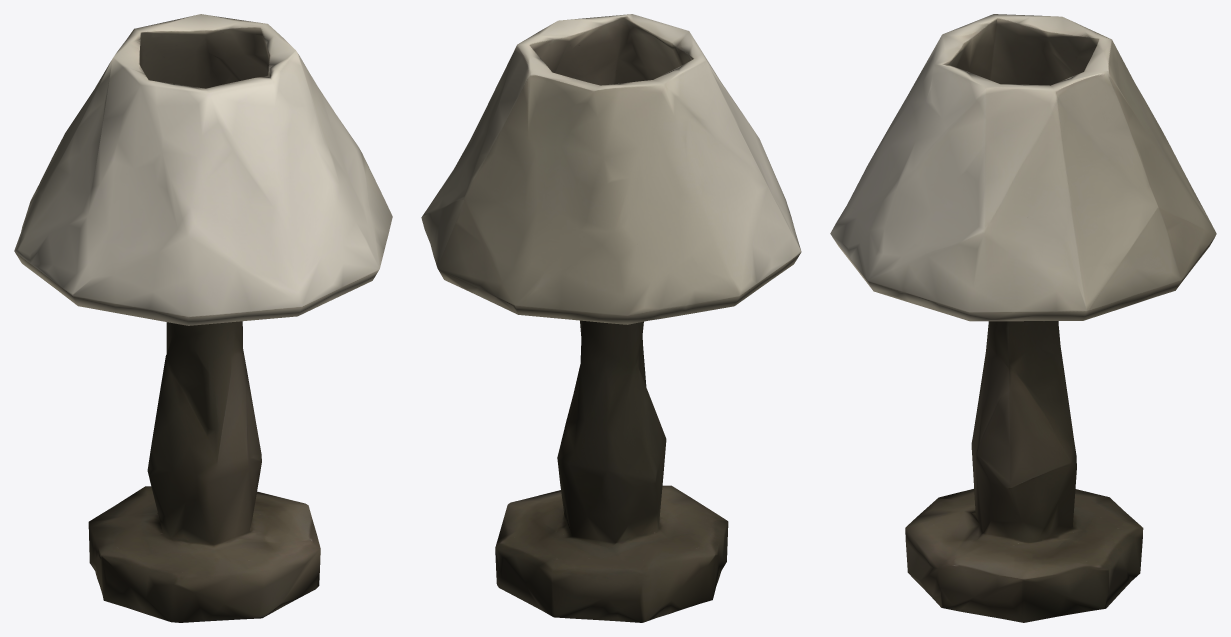
The model's file is low-poly+lamp+3d+model (1).glb.
3 renders of one model, left to right at view 1: azimuth 30°, elevation 25°; view 2: azimuth 150°, elevation 25°; view 3: azimuth 270°, elevation 25°, orthographic.
Parts seen in each view (by area): view 1: tripo_node_234873b8-6fa2-4bb0-ab6b-bf28547c1ac5; view 2: tripo_node_234873b8-6fa2-4bb0-ab6b-bf28547c1ac5; view 3: tripo_node_234873b8-6fa2-4bb0-ab6b-bf28547c1ac5.
Part boxes in pixels (x1,y1,x2,y2): tripo_node_234873b8-6fa2-4bb0-ab6b-bf28547c1ac5: (14, 14, 392, 622); tripo_node_234873b8-6fa2-4bb0-ab6b-bf28547c1ac5: (421, 14, 801, 622); tripo_node_234873b8-6fa2-4bb0-ab6b-bf28547c1ac5: (830, 14, 1216, 622).
Size of the model in its own units: 0.6428 by 1 by 0.6704.
Materials: 1 (1 with a texture image).
